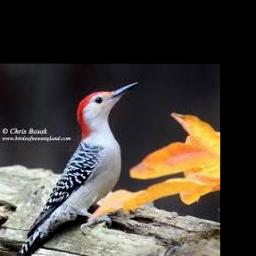Woodpecker: (12, 81, 138, 256)
